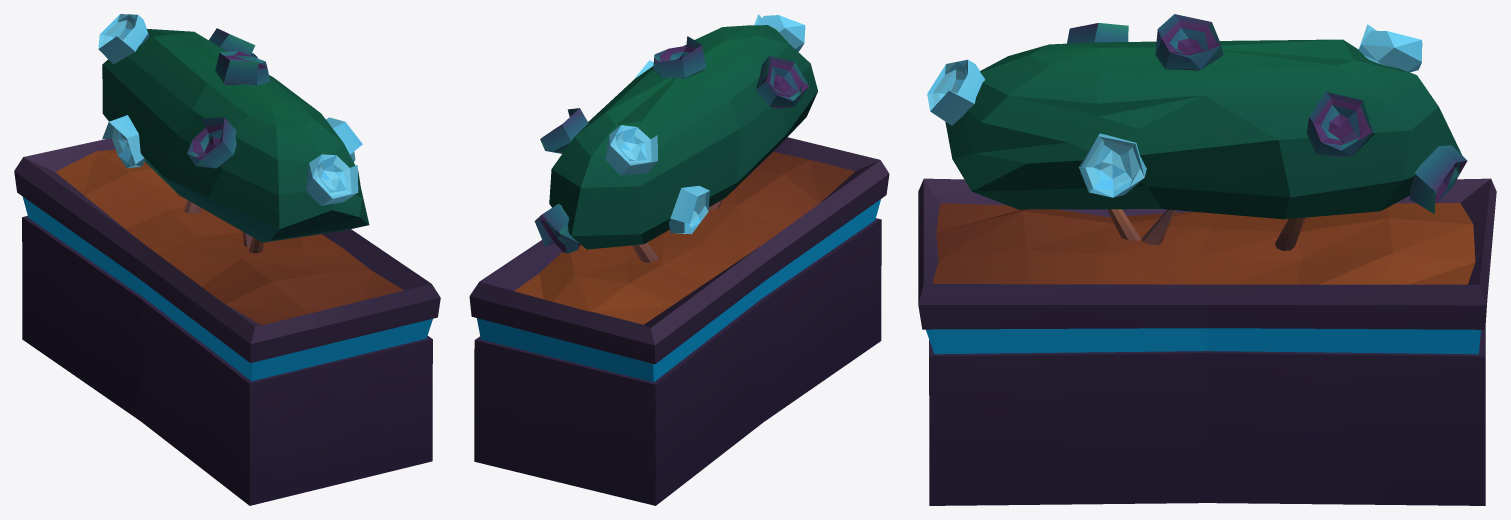
File: Prop_PlanterRose.fbx
The picture shows the model from 3 angles, left to right: view 1: azimuth 30°, elevation 25°; view 2: azimuth 150°, elevation 25°; view 3: azimuth 270°, elevation 25°; orthographic projection. The views are drawn at different scales.
Parts seen in each view (by area): view 1: Planter.001; view 2: Planter.001; view 3: Planter.001.
Boxes of the visible parts, <box> form: Planter.001: <box>14,14,440,505</box>; Planter.001: <box>469,14,889,505</box>; Planter.001: <box>918,14,1496,505</box>.
Size of the model in its own units: 59.37 by 105 by 127.
